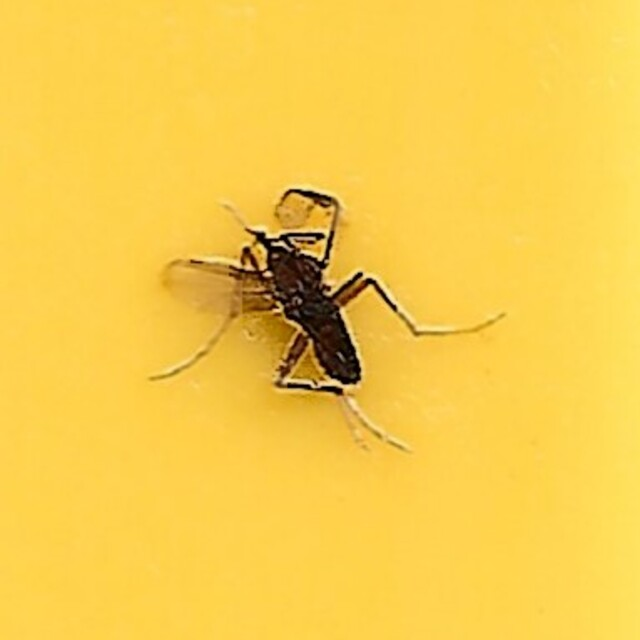Nematocera: (167, 189, 473, 451)
